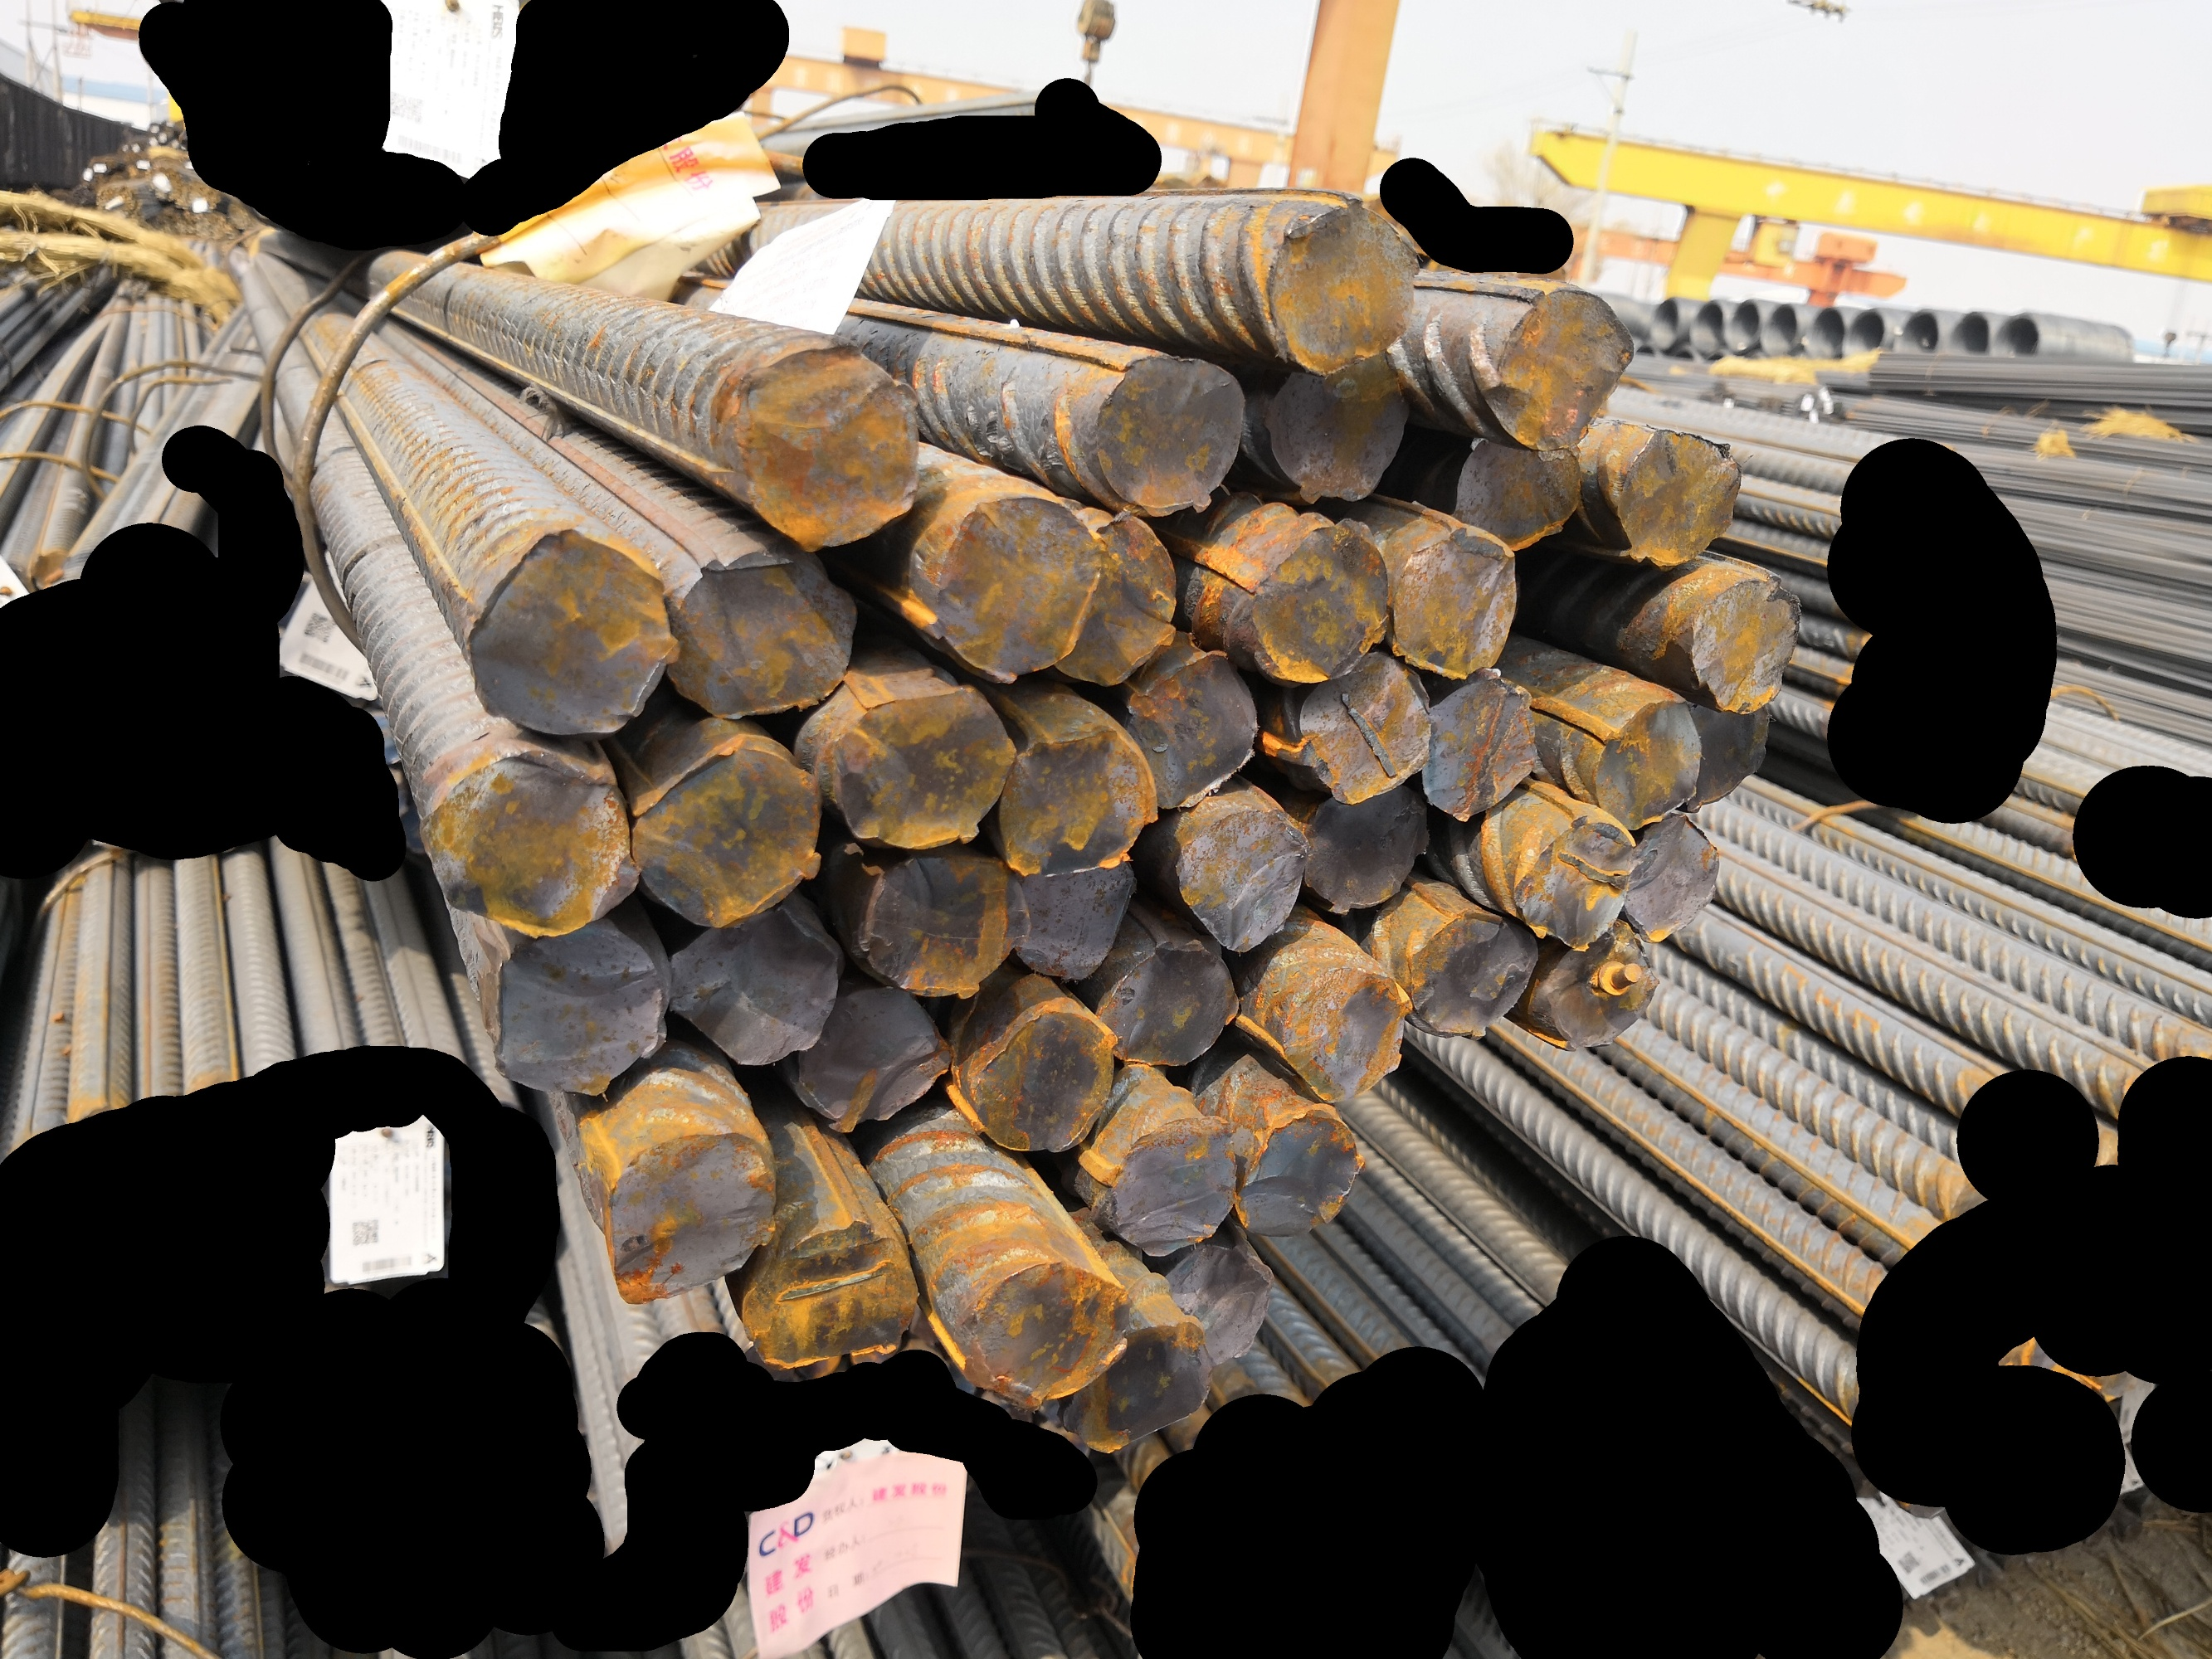rebar: (458, 526, 682, 742), (418, 742, 641, 938), (734, 333, 924, 554), (629, 739, 824, 934), (664, 542, 861, 723), (922, 491, 1103, 688), (483, 917, 671, 1101), (600, 1124, 779, 1309), (824, 685, 1020, 854), (668, 903, 844, 1070), (1262, 192, 1422, 375), (737, 1215, 920, 1373), (952, 1255, 1130, 1413), (1483, 277, 1639, 451), (1089, 350, 1248, 519), (854, 852, 1032, 1002), (1239, 516, 1393, 685), (781, 985, 952, 1136), (999, 723, 1159, 878), (1041, 512, 1182, 687), (966, 1002, 1119, 1157), (1264, 349, 1417, 504), (1123, 650, 1262, 812), (1170, 803, 1311, 958), (1063, 1316, 1213, 1457), (1295, 648, 1431, 803), (1391, 519, 1520, 681), (1100, 1110, 1239, 1260), (1271, 962, 1415, 1105), (1095, 934, 1239, 1072), (1419, 669, 1541, 824), (1614, 425, 1745, 570), (1407, 904, 1539, 1042), (1299, 784, 1433, 918), (1234, 1108, 1367, 1241), (1513, 810, 1637, 950), (1687, 572, 1804, 714), (1157, 1234, 1274, 1373), (1586, 695, 1705, 831), (1543, 917, 1659, 1054), (1450, 437, 1583, 552), (1014, 859, 1137, 983), (1619, 810, 1719, 945), (1689, 701, 1773, 814)
